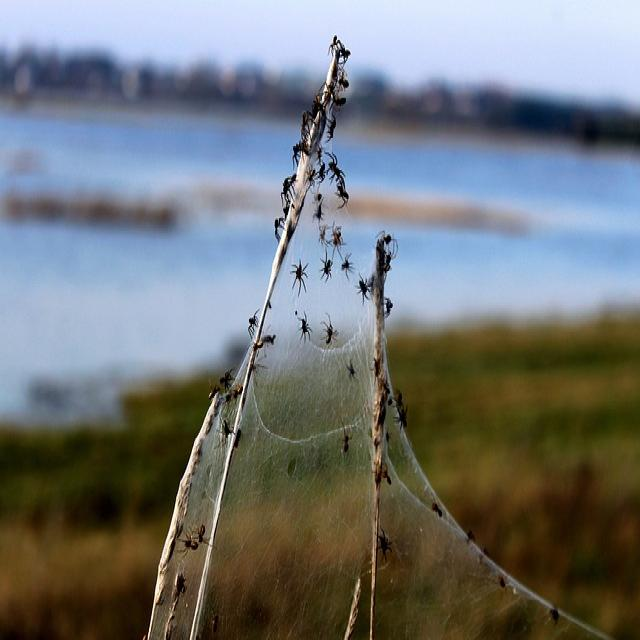spyder: (182, 523, 204, 549), (291, 261, 308, 294), (324, 315, 338, 344), (296, 311, 311, 338), (379, 529, 392, 560), (248, 311, 259, 338), (220, 369, 234, 390), (385, 297, 392, 316)
